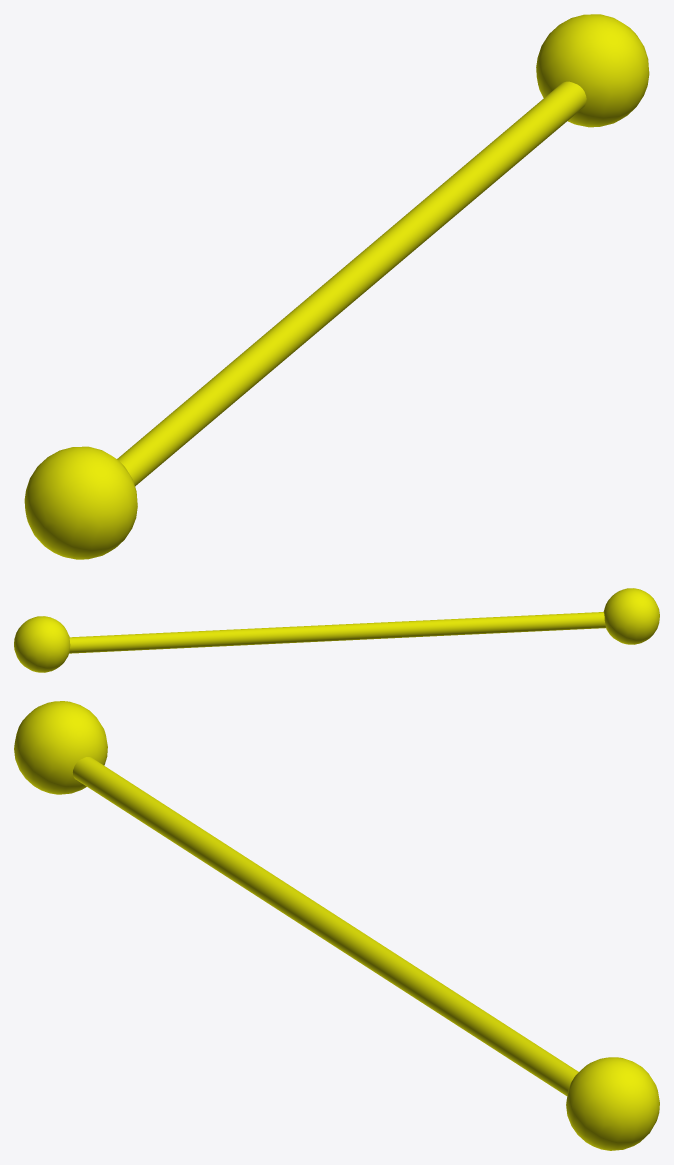
Rendered from line_yellow.glb.
3 views of the same model, one above another, from view 1: azimuth 30°, elevation 25°; view 2: azimuth 150°, elevation 25°; view 3: azimuth 270°, elevation 25° (orthographic). The views are drawn at different scales.
Visible parts, largest first — view 1: NurbsPath.005, Sphere.012, Sphere.011_Sphere.006; view 2: NurbsPath.005, Sphere.011_Sphere.006, Sphere.012; view 3: NurbsPath.005, Sphere.011_Sphere.006, Sphere.012.
Part boxes in pixels (left/top/right/bottom): NurbsPath.005: left=117, top=81, right=586, bottom=486; Sphere.012: left=24, top=446, right=137, bottom=559; Sphere.011_Sphere.006: left=536, top=14, right=649, bottom=127; NurbsPath.005: left=69, top=612, right=605, bottom=653; Sphere.011_Sphere.006: left=14, top=616, right=70, bottom=672; Sphere.012: left=603, top=588, right=659, bottom=644; NurbsPath.005: left=73, top=757, right=578, bottom=1095; Sphere.011_Sphere.006: left=566, top=1057, right=659, bottom=1150; Sphere.012: left=14, top=701, right=107, bottom=794.
Size of the model in its own units: 1.62 by 0.1983 by 1.16.
